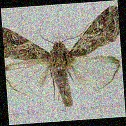Spodoptera litura: (4, 8, 121, 107)
